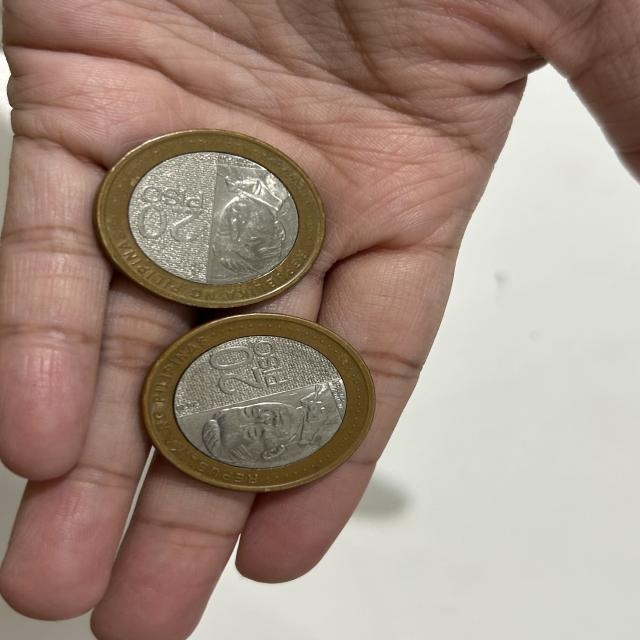20_New_Front: (202, 343, 298, 394), (133, 181, 204, 248)
